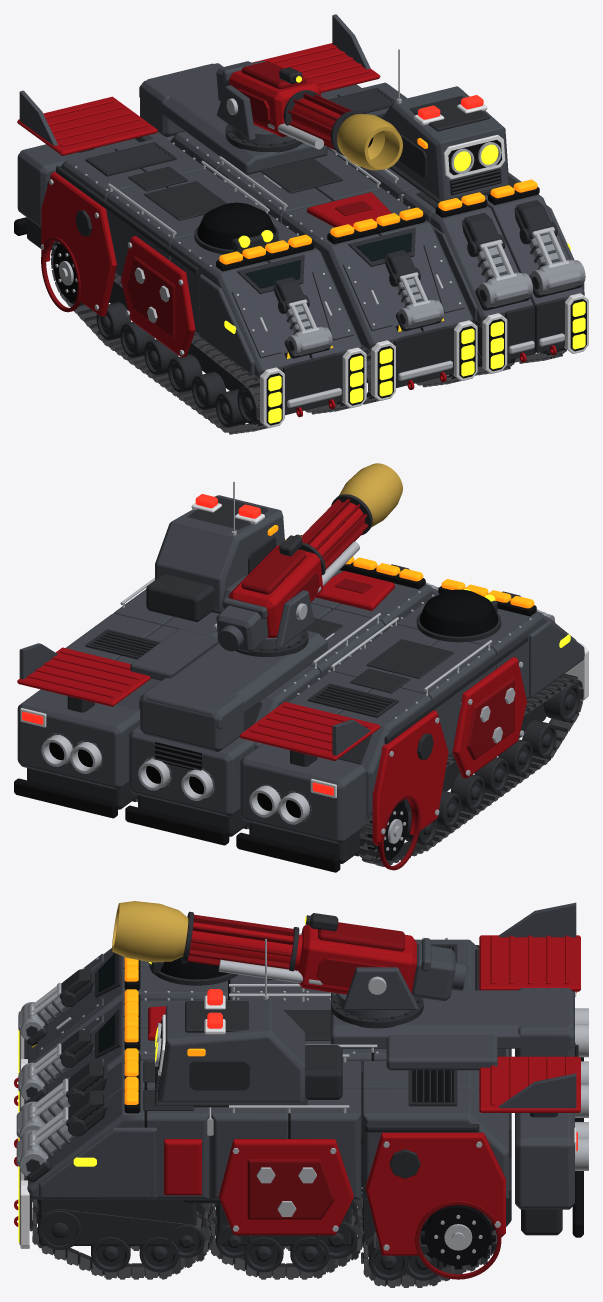
File: rescue_saver.glb
3 renders of one model, top to bottom at view 1: azimuth 30°, elevation 25°; view 2: azimuth 150°, elevation 25°; view 3: azimuth 270°, elevation 25°, orthographic. The views are drawn at different scales.
Visible parts, largest first — view 1: UR_Armor, UC_Armor, UR_SideRedRear, UR_Wheels, Tw_Body, U4_Spine, UR_RedDeck, UR_SideRedMid, A3_F_Armor, UR_Track_-1, FC_Muzzle, U4_RedDeck (+73 smaller); view 2: UR_Armor, UR_Beam, U4_Beam, Tw_Body, U4_Spine, UR_SideRedRear, UR_Wheels, U4_TailBlock, UC_Beam, UC_Armor, U4_RedDeck, UR_RedDeck (+48 smaller); view 3: U4_SideRedRear, Tw_Body, U4_Spine, U4_Armor, A2_Armor, A2_SideRedMid, A2_F_Frame, A2_F_SideFront, UR_Armor, U4_Beam, UR_RedDeck, A2_F_Armor (+62 smaller).
Boxes of the visible parts, bbox=[...] form: UR_Armor: bbox=[46, 137, 362, 378]; UC_Armor: bbox=[170, 131, 473, 351]; UR_SideRedRear: bbox=[41, 172, 116, 316]; UR_Wheels: bbox=[96, 302, 257, 427]; Tw_Body: bbox=[381, 86, 508, 199]; U4_Spine: bbox=[139, 63, 327, 174]; UR_RedDeck: bbox=[17, 96, 157, 155]; UR_SideRedMid: bbox=[121, 236, 195, 357]; A3_F_Armor: bbox=[403, 188, 533, 324]; UR_Track_-1: bbox=[50, 241, 261, 432]; FC_Muzzle: bbox=[337, 114, 402, 170]; U4_RedDeck: bbox=[252, 43, 380, 92]; UR_Armor: bbox=[288, 592, 584, 814]; UR_Beam: bbox=[240, 743, 366, 843]; U4_Beam: bbox=[17, 689, 139, 789]; Tw_Body: bbox=[155, 495, 284, 609]; U4_Spine: bbox=[139, 630, 327, 729]; UR_SideRedRear: bbox=[372, 710, 448, 845]; UR_Wheels: bbox=[405, 683, 580, 845]; U4_TailBlock: bbox=[140, 678, 243, 751]; UC_Beam: bbox=[129, 725, 255, 816]; UC_Armor: bbox=[254, 570, 437, 748]; U4_RedDeck: bbox=[17, 647, 150, 706]; UR_RedDeck: bbox=[239, 702, 380, 760]; U4_SideRedRear: bbox=[365, 1132, 505, 1255]; Tw_Body: bbox=[157, 997, 305, 1101]; U4_Spine: bbox=[331, 990, 574, 1048]; U4_Armor: bbox=[363, 1061, 509, 1199]; A2_Armor: bbox=[211, 1088, 360, 1199]; A2_SideRedMid: bbox=[219, 1139, 353, 1235]; A2_F_Frame: bbox=[39, 1198, 196, 1245]; A2_F_SideFront: bbox=[39, 1127, 157, 1198]; UR_Armor: bbox=[27, 939, 479, 1063]; U4_Beam: bbox=[515, 1113, 574, 1209]; UR_RedDeck: bbox=[479, 935, 580, 991]; A2_F_Armor: bbox=[27, 1088, 209, 1199].
Size of the model in its own units: 9.7 by 7.28 by 12.41.
